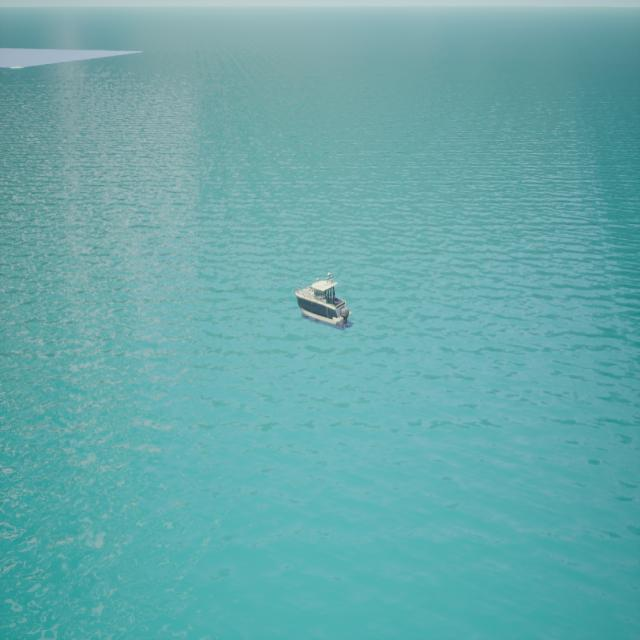ship: (293, 272, 351, 331)
